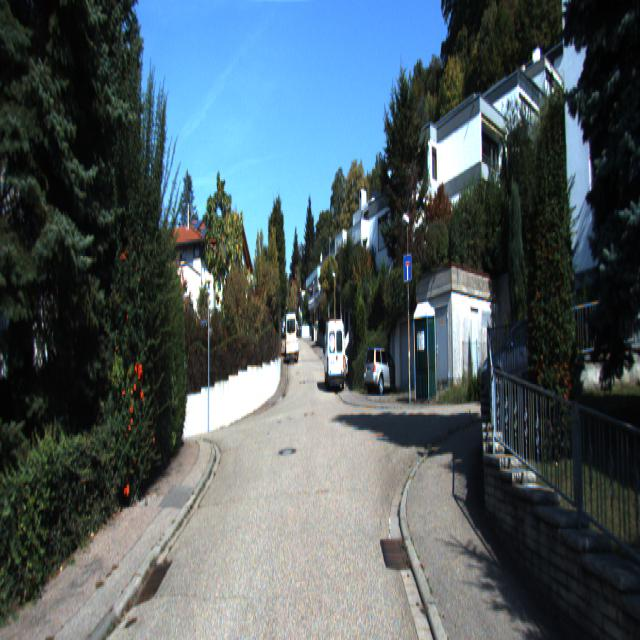Car: (480, 312, 565, 410), (363, 344, 404, 395), (324, 318, 346, 392), (286, 311, 298, 356), (286, 339, 300, 362)
